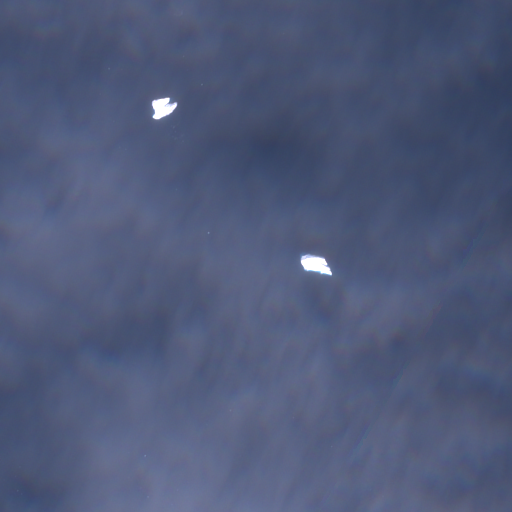Iceberg: (301, 254, 332, 275), (151, 97, 177, 119), (208, 232, 209, 233)
